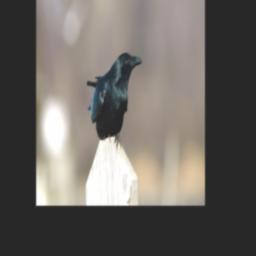Crow: (87, 53, 142, 148)
